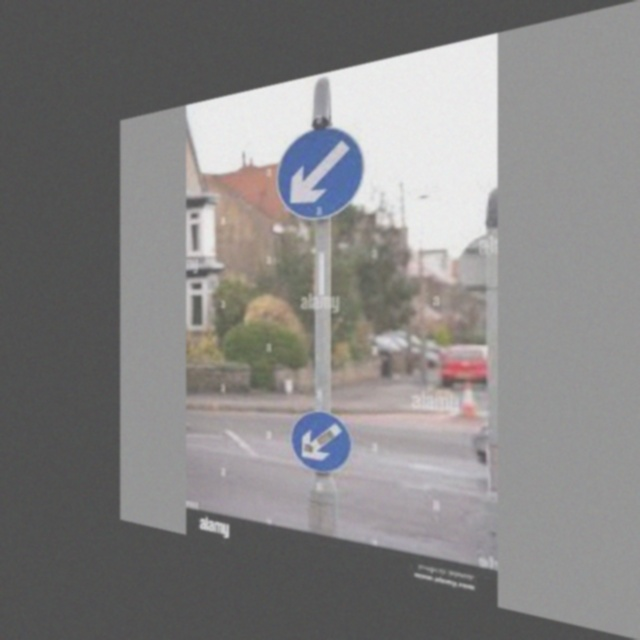Compulsory_Keep_Left: (276, 119, 364, 223)
